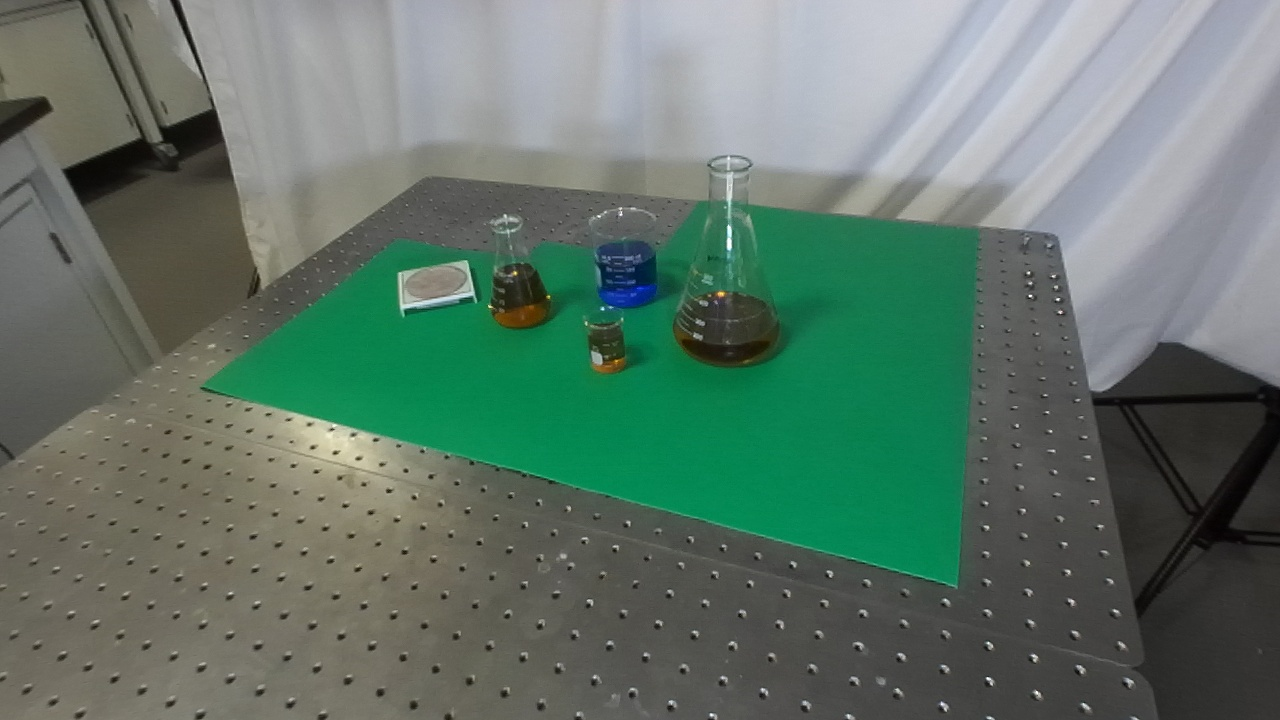glass: (669, 149, 786, 371), (484, 209, 554, 332), (585, 204, 660, 310), (581, 304, 629, 376)
plate: (395, 258, 480, 319)
